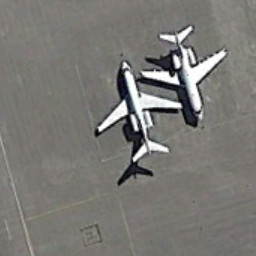Airplane: (89, 57, 184, 176), (139, 11, 238, 122)
